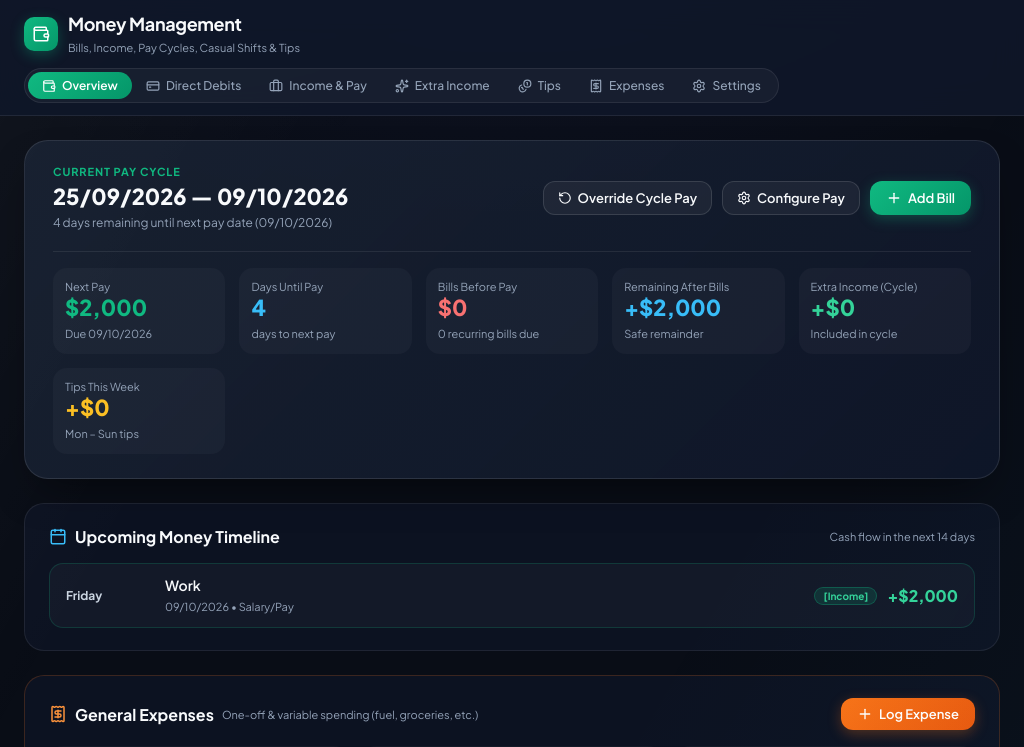
Test: MoneyModule shift log cycle grouping › shows only active cycle stats and groups completed cycles as collapsed rows
Click the tab "Income & Pay": [318, 86] box [255,72,381,99]
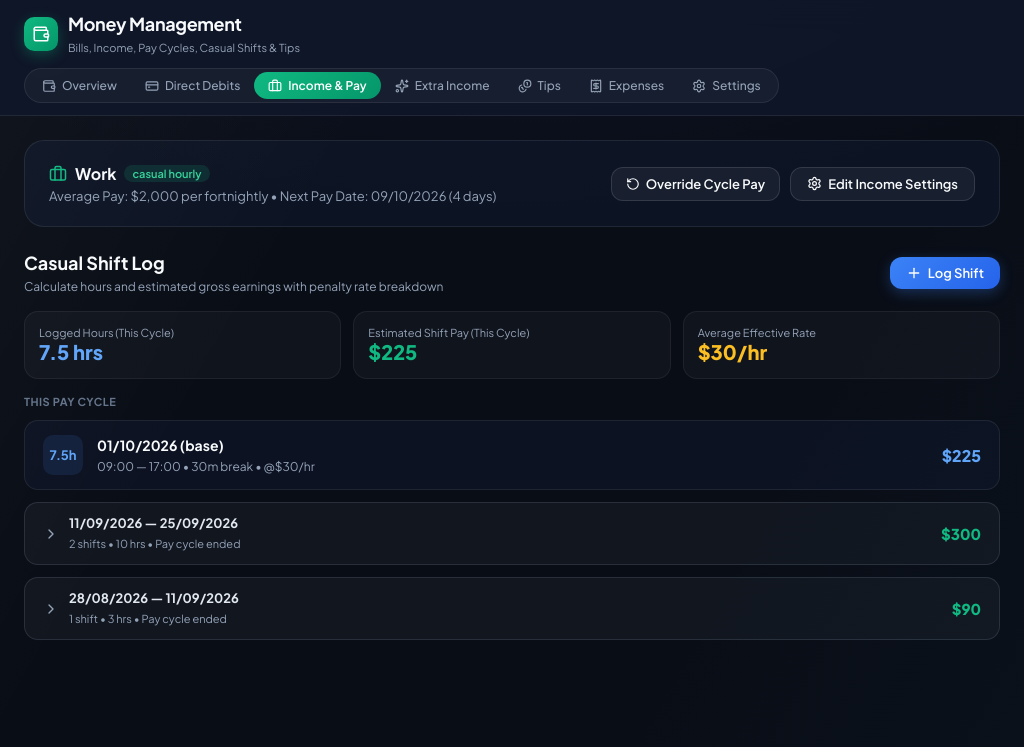
Check: the text "20/09/2026" is not shown
Check: the text "2 shifts • 10 hrs • Pay cycle ended" is shown 2 times
Click the text "2 shifts • 10 hrs • Pay cycle ended": [72, 544] box [69,537,240,550]
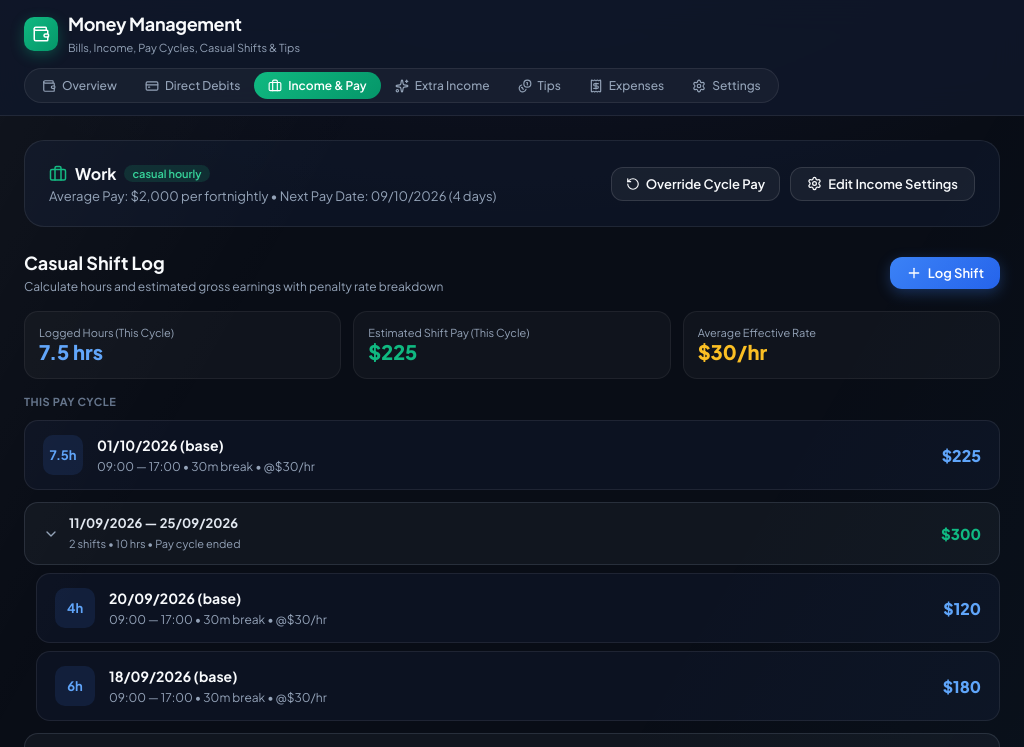
Check: the text "20/09/2026 (base)" is shown, box [109,588,241,606]
Check: the text "18/09/2026 (base)" is shown, box [109,666,238,684]
